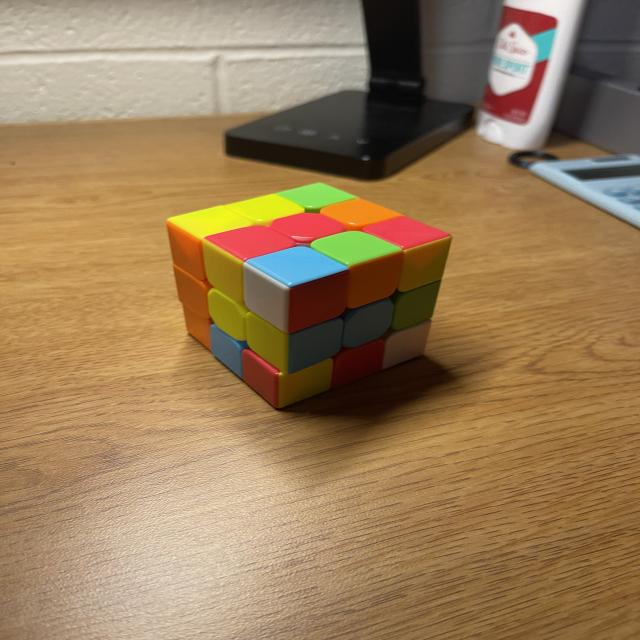Rubiks Cube: (167, 182, 451, 408)
